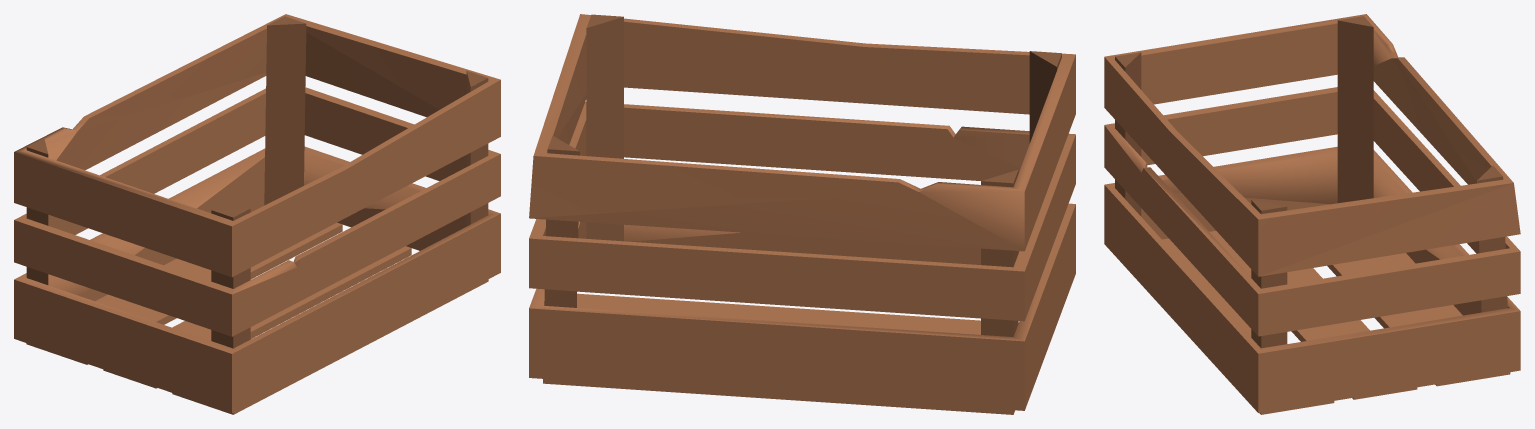
File: fruit-crate.glb
3 renders of one model, left to right at view 1: azimuth 30°, elevation 25°; view 2: azimuth 150°, elevation 25°; view 3: azimuth 270°, elevation 25°, orthographic. The views are drawn at different scales.
Parts seen in each view (by area): view 1: fruit-crate; view 2: fruit-crate; view 3: fruit-crate.
Boxes of the visible parts, bbox=[...] form: fruit-crate: bbox=[14, 14, 500, 414]; fruit-crate: bbox=[529, 14, 1075, 414]; fruit-crate: bbox=[1104, 14, 1520, 414].
Bounding box in the file's own units: 0.5 × 0.2246 × 0.4154.
